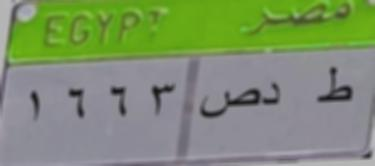1: (20, 88, 50, 123)
3: (144, 81, 182, 122)
6: (66, 82, 90, 124), (108, 78, 130, 121)
Taa: (308, 61, 358, 112)
daal: (262, 78, 286, 112)
saad: (199, 83, 260, 124)
